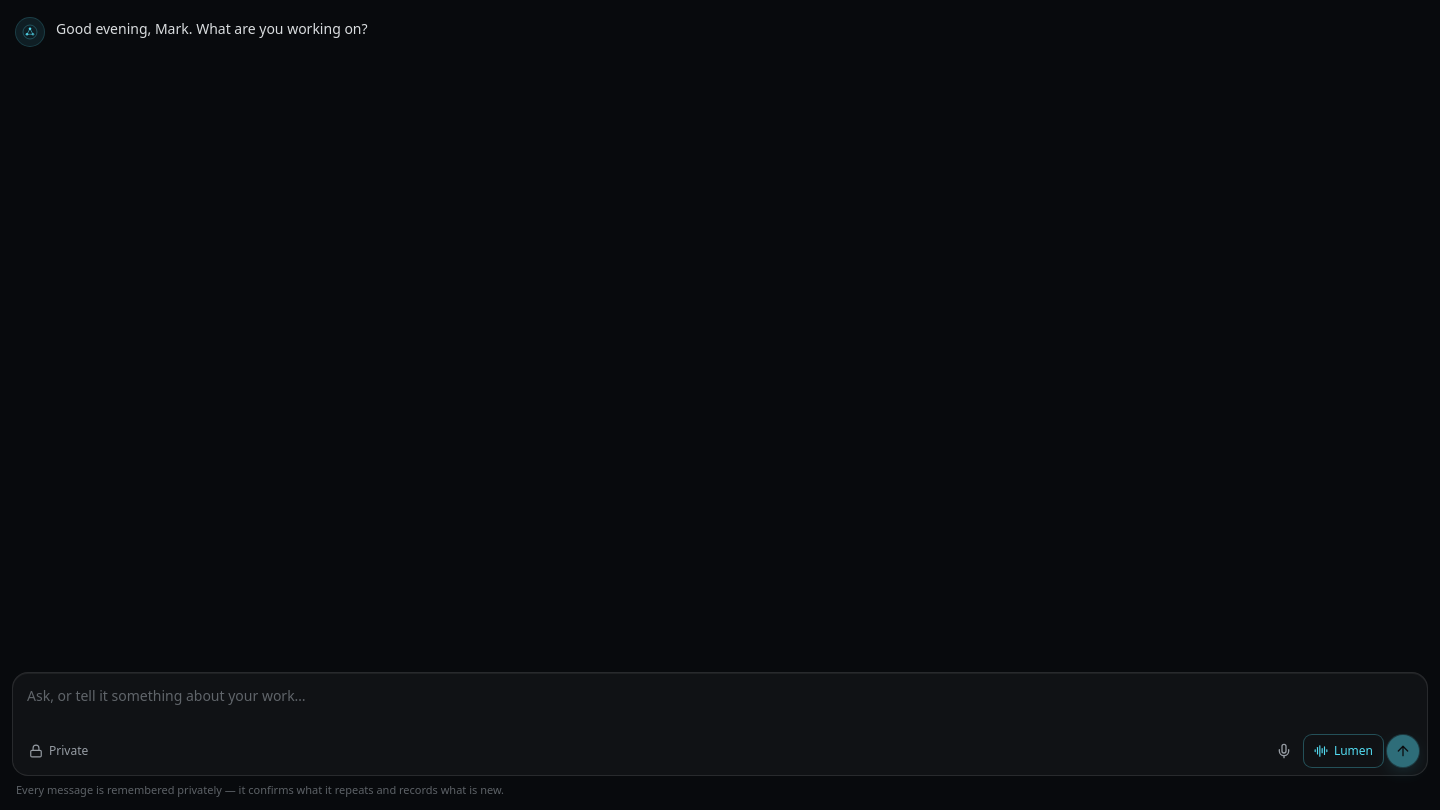
dictation › cancel throws the recording away and frees the microphone
Click the button named "Dictate a message": click(1284, 750) [1268,734,1300,766]
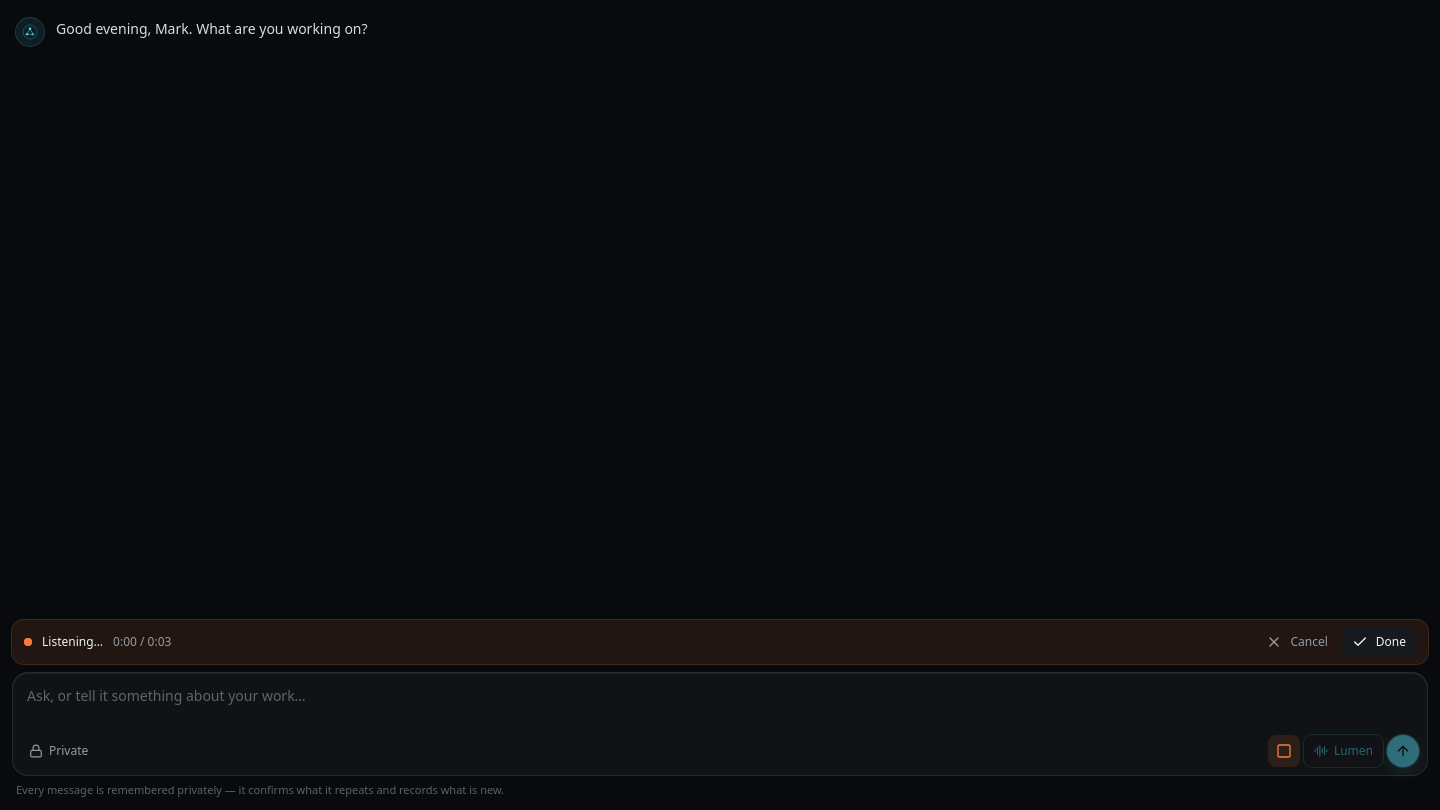
Click the button "Cancel": click(1297, 642) [1256,628,1338,656]
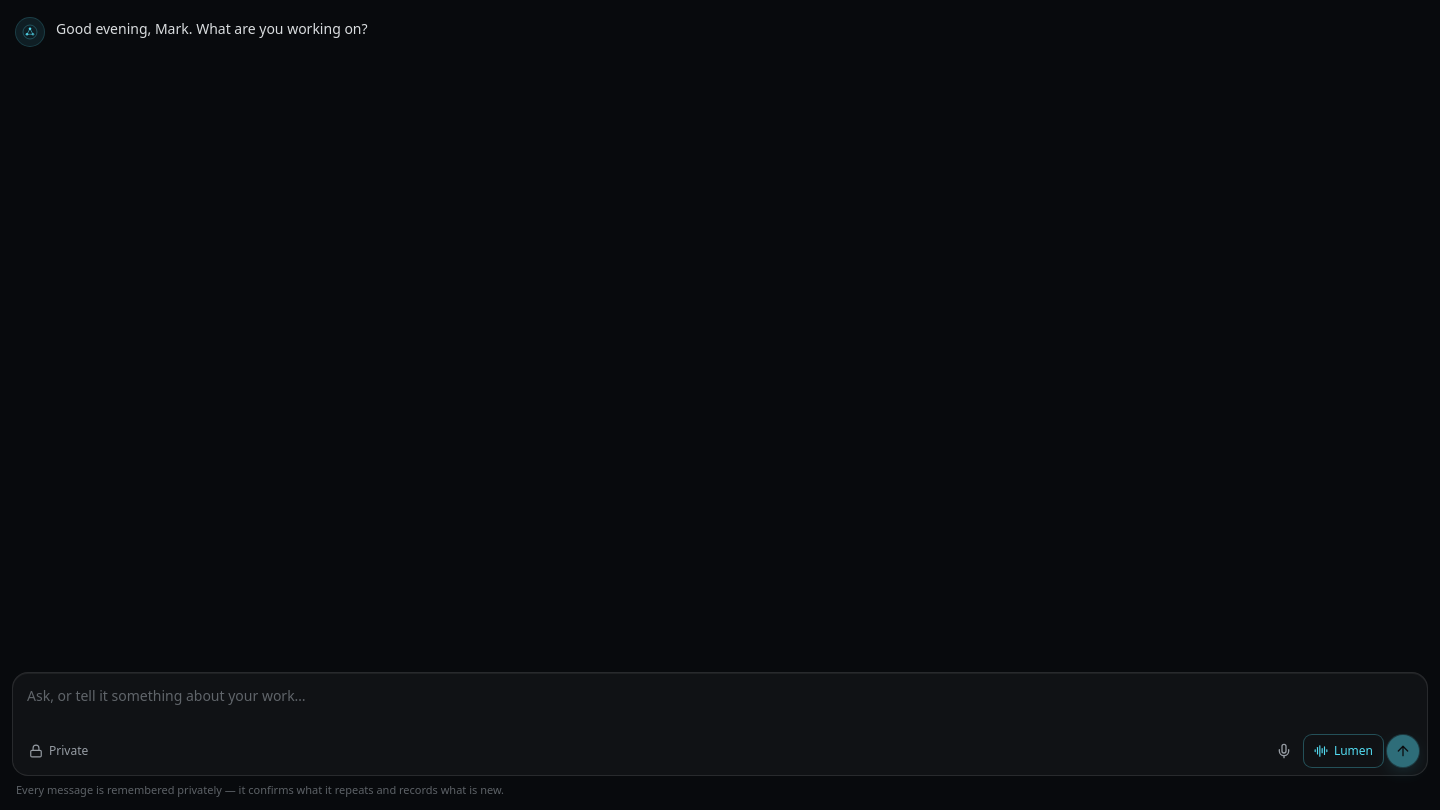
Check: the text "Listening…" is gone
